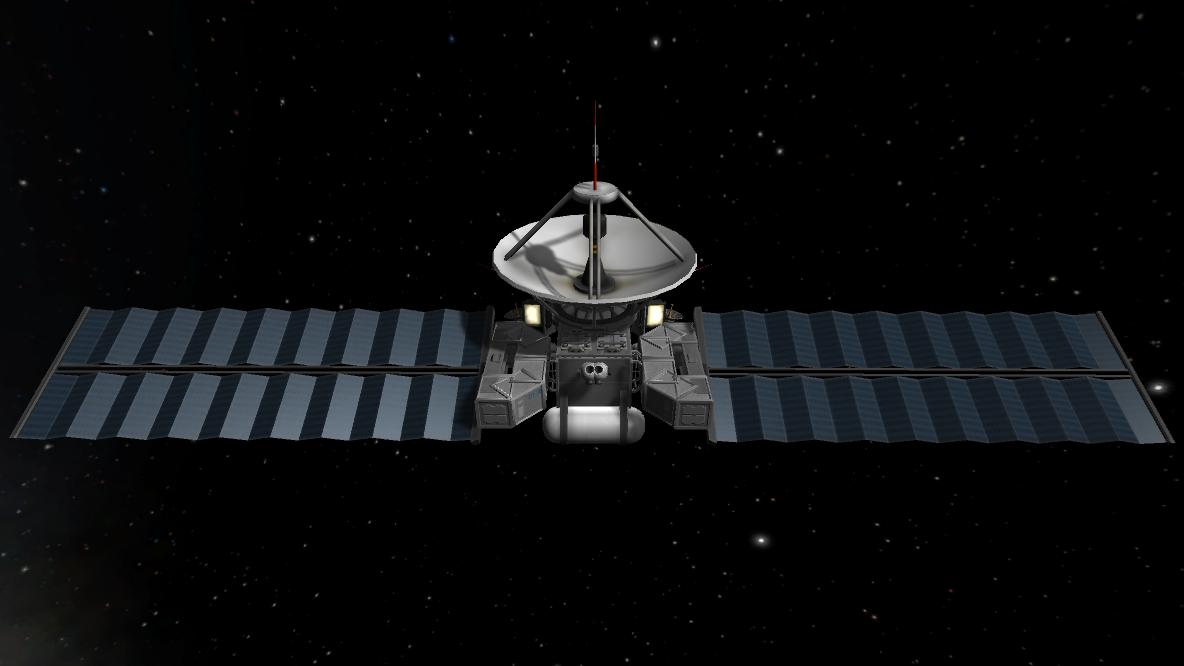antenna: (489, 96, 702, 311), (660, 302, 688, 323), (502, 301, 527, 322)
body: (468, 302, 715, 453)
solar: (8, 300, 498, 447), (690, 304, 1183, 448)
thruster: (593, 364, 606, 375), (585, 364, 596, 376), (594, 376, 606, 386), (584, 377, 596, 386), (605, 368, 613, 378), (575, 367, 582, 377)
